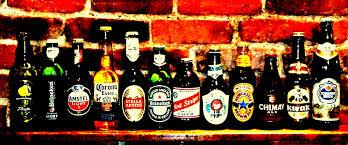Glass bottle: (4, 16, 348, 139)
